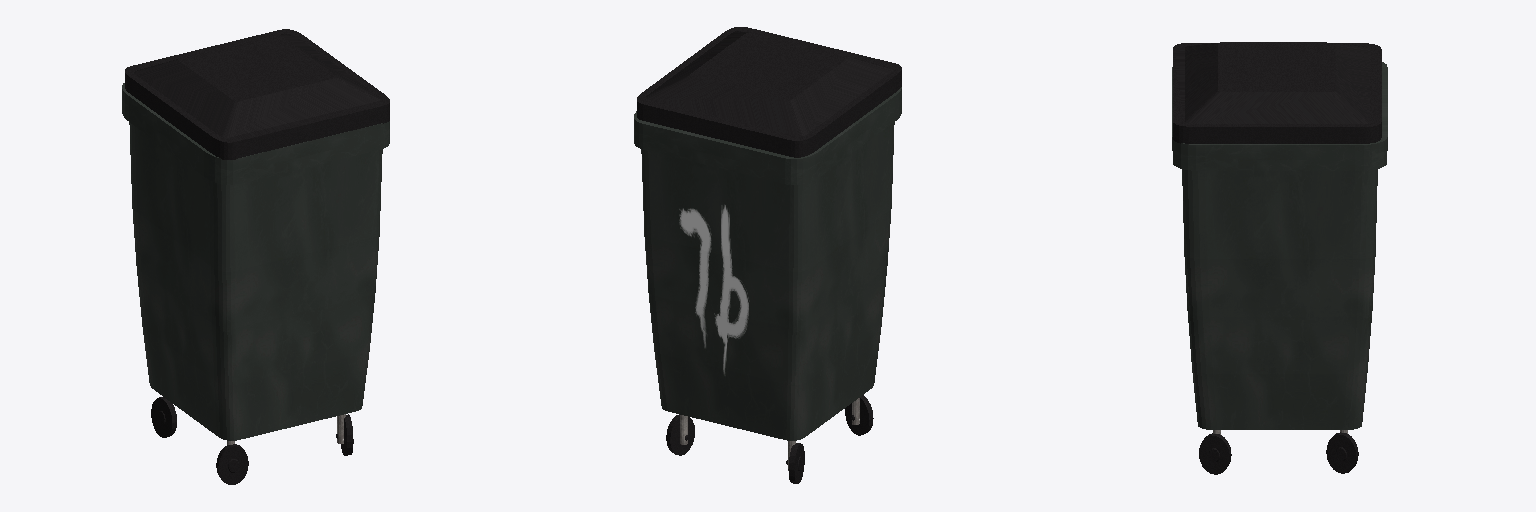
3 renders of one model, left to right at view 1: azimuth 30°, elevation 25°; view 2: azimuth 150°, elevation 25°; view 3: azimuth 270°, elevation 25°, orthographic.
Parts seen in each view (by area): view 1: Box0011, binlid, wheels; view 2: Box0012, Box0011, binlid, wheels; view 3: Box0011, binlid, wheels.
Boxes of the visible parts, x1,y1,x2,y2 form: Box0011: [122, 83, 389, 440]; binlid: [125, 29, 389, 159]; wheels: [151, 397, 353, 484]; Box0012: [648, 151, 789, 439]; Box0011: [634, 87, 901, 440]; binlid: [637, 27, 901, 157]; wheels: [666, 395, 873, 483]; Box0011: [1172, 62, 1387, 429]; binlid: [1173, 42, 1381, 143]; wheels: [1199, 432, 1358, 474].
Bounding box in the file's own units: 55.42 × 112 × 57.71.
4 materials, 4 textured.